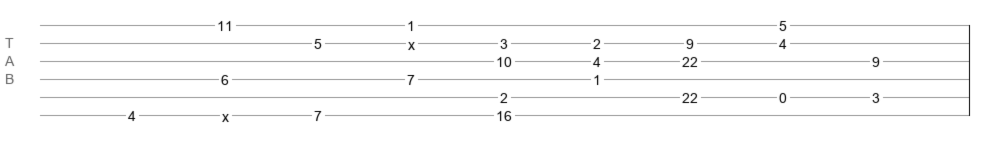0: (779, 90, 787, 100)
1: (407, 18, 415, 28), (593, 72, 601, 82)
10: (496, 54, 512, 64)
11: (217, 18, 233, 28)
16: (496, 108, 512, 118)
2: (500, 90, 508, 100), (593, 36, 601, 46)
22: (682, 90, 698, 100), (682, 54, 698, 64)
3: (500, 36, 508, 46), (872, 90, 880, 100)
4: (128, 108, 136, 118), (593, 54, 601, 64), (779, 36, 787, 46)
5: (314, 36, 322, 46), (779, 18, 787, 28)
6: (221, 72, 229, 82)
7: (314, 108, 322, 118), (407, 72, 415, 82)
9: (686, 36, 694, 46), (872, 54, 880, 64)
x: (222, 109, 229, 117), (408, 37, 415, 45)
